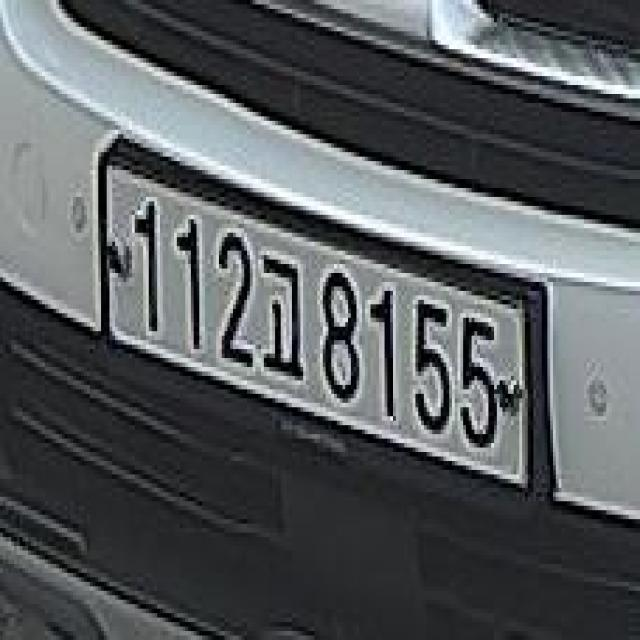illegal_plate: (95, 143, 542, 512)
